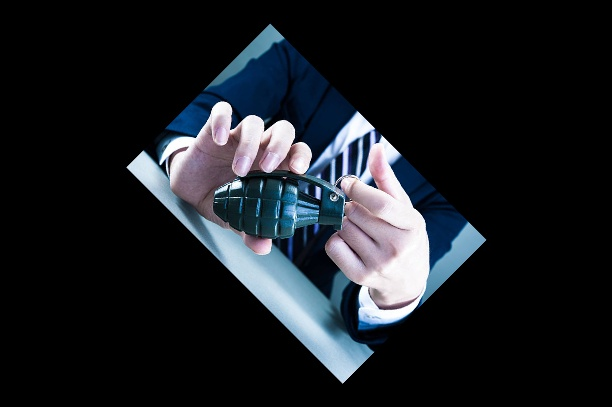e1: (206, 166, 362, 237)
